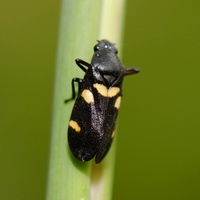insect: (65, 40, 138, 162)
